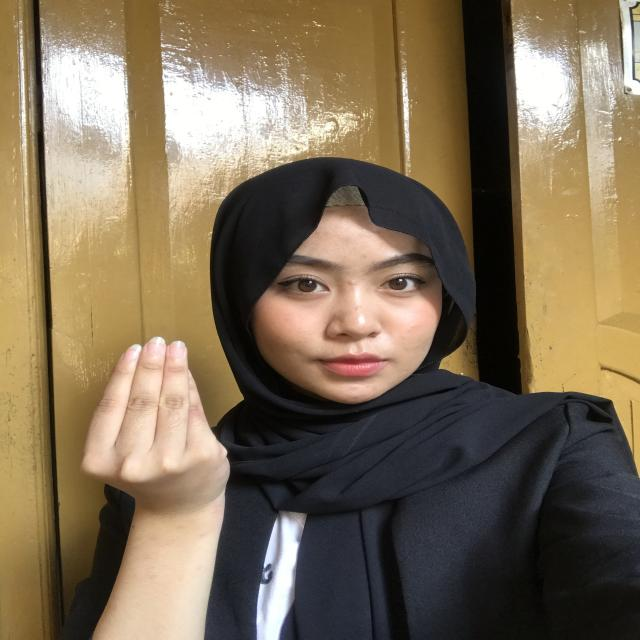kapan: (72, 332, 254, 578)
